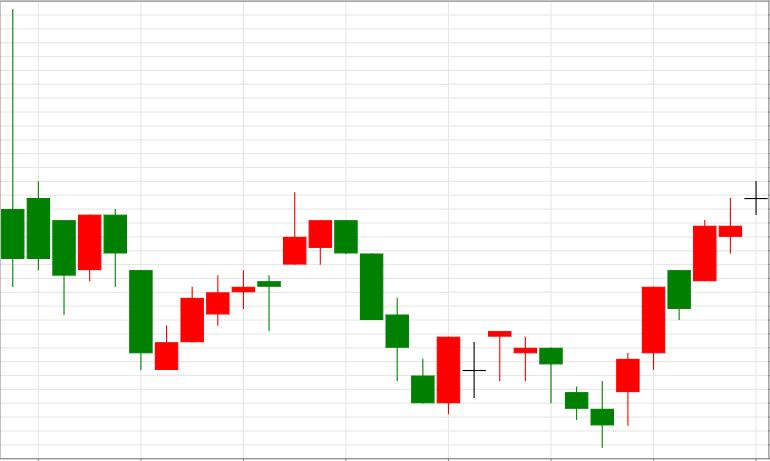bullish_engulfing_rise: (334, 221, 460, 416)
morning_star_rise: (488, 330, 639, 448)
